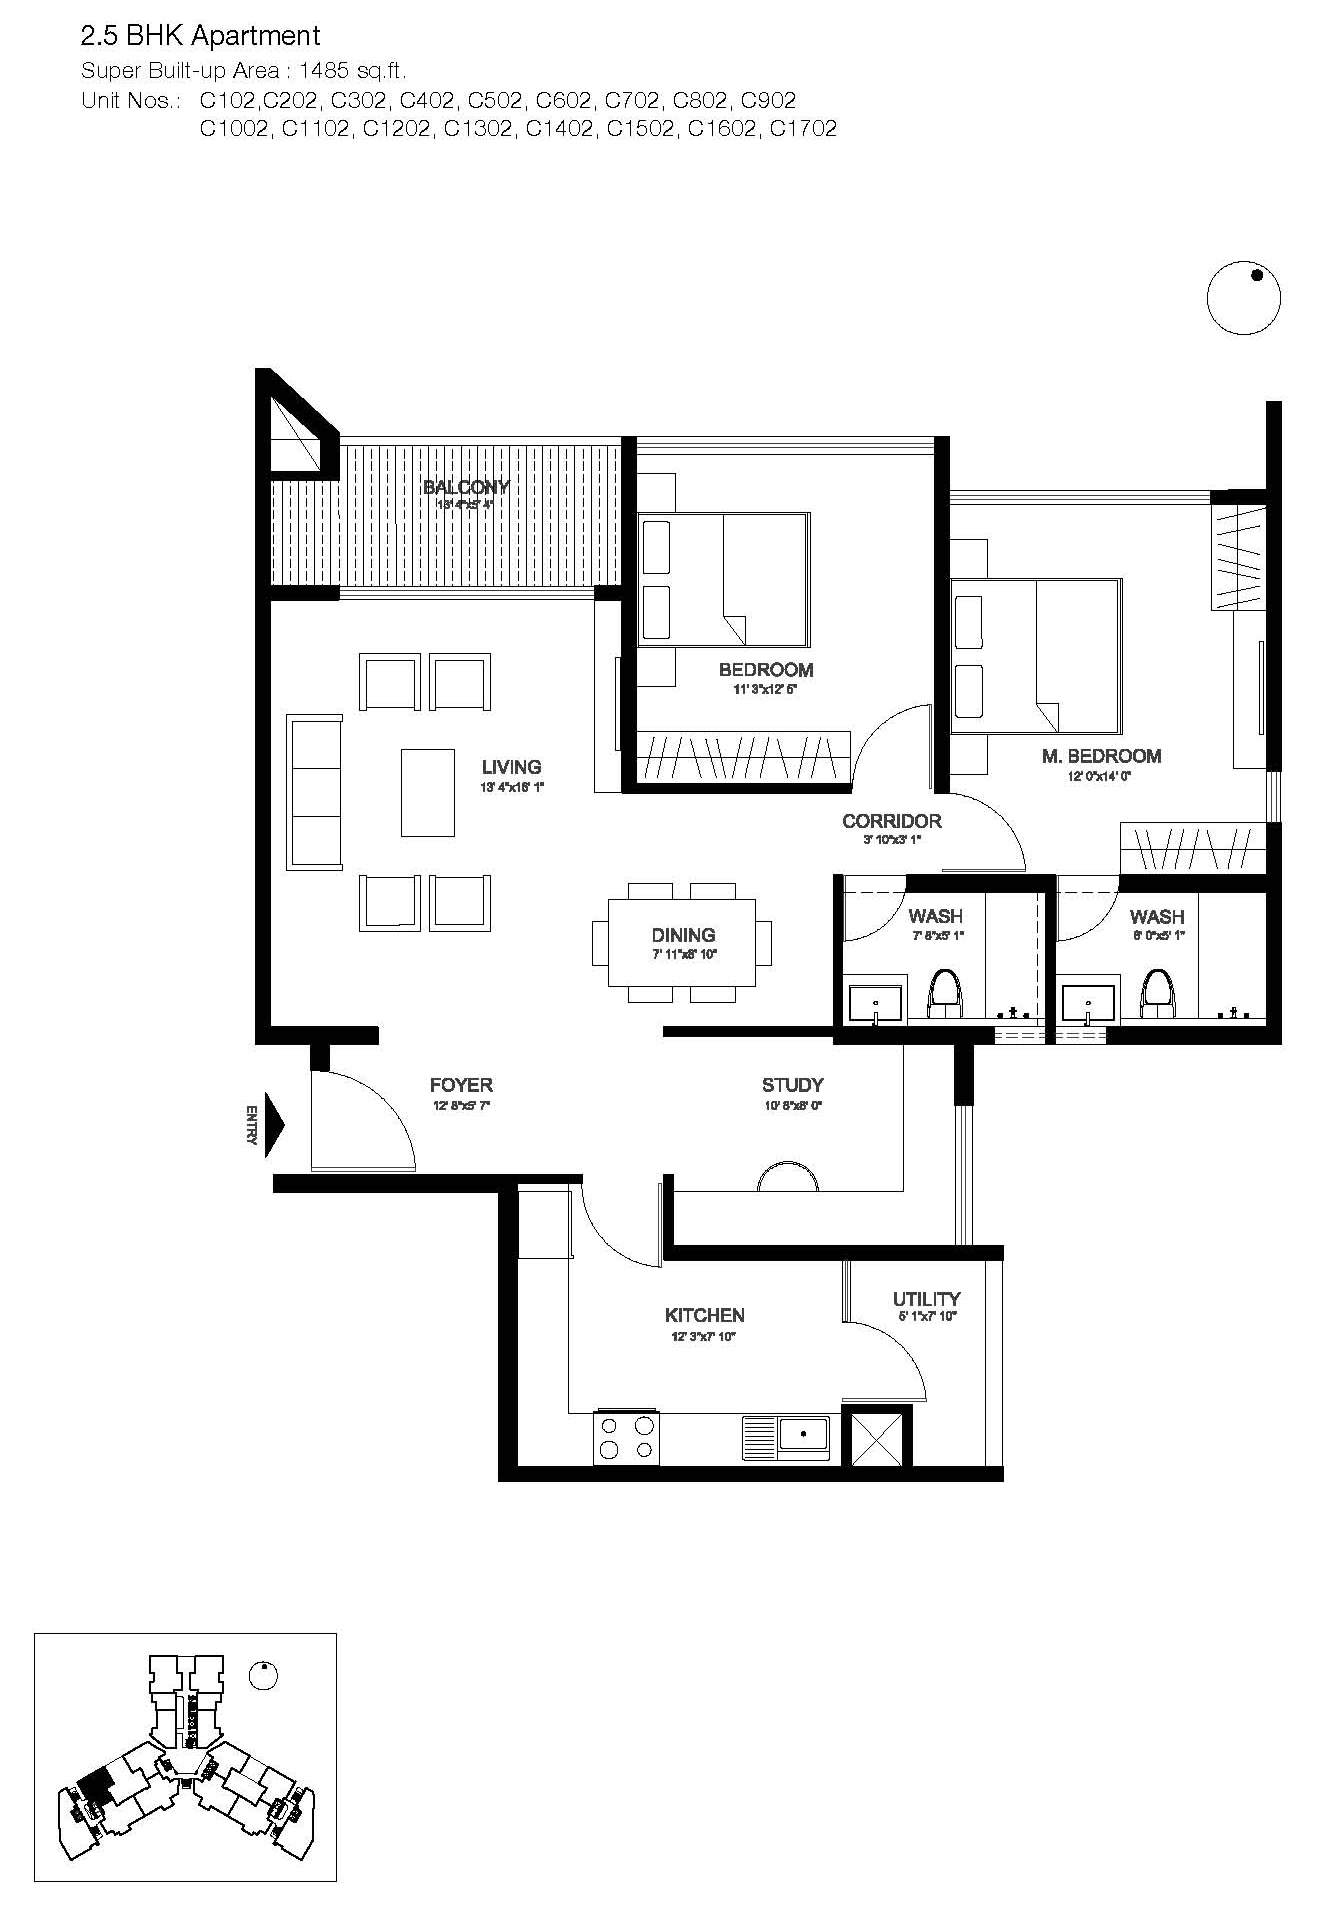door: (330, 1070, 420, 1175), (579, 1185, 664, 1285), (851, 1321, 942, 1406), (960, 785, 1035, 874), (859, 696, 933, 781), (1056, 887, 1114, 952), (840, 894, 902, 948)
